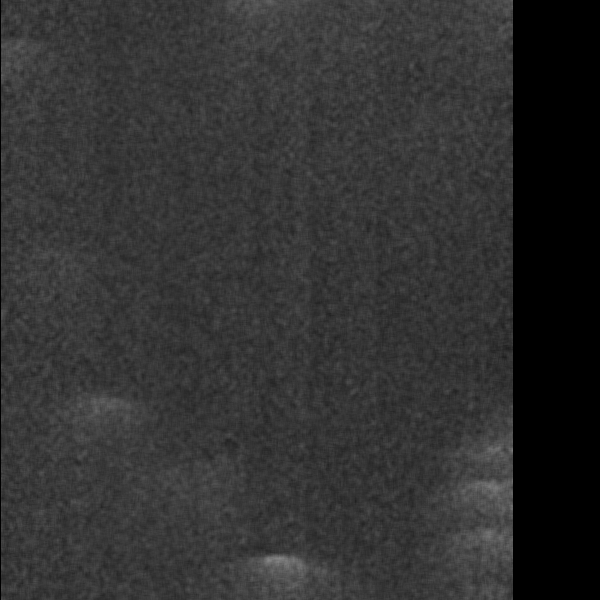spark: (426, 300, 477, 403), (1, 203, 56, 263), (171, 334, 200, 367)
